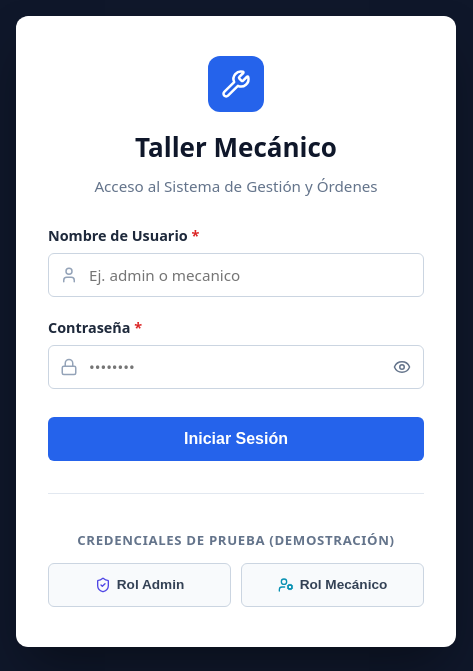
LoginPage Component › debe permitir autocompletar credenciales de demostración para pruebas rápidas
The image size is (473, 671).
Click the button "Rol Admin". click: (140, 584)
box: [48,562,231,606]
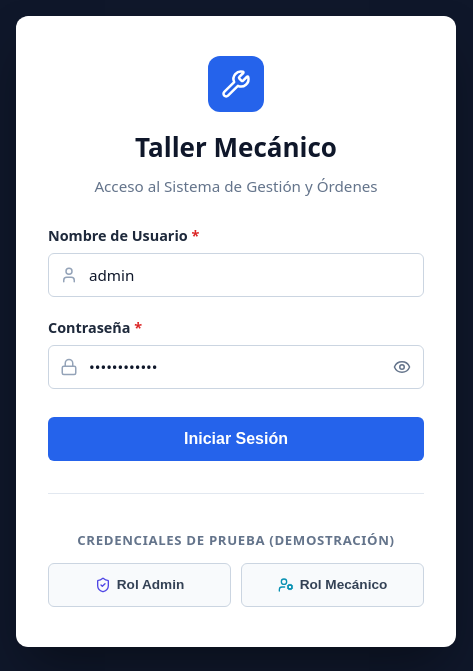
Result: the field labelled "Nombre de Usuario *" holds "admin" at [48,253,424,297]
Result: the password field labelled "Contraseña *" holds "Password123!" at [48,344,424,388]
